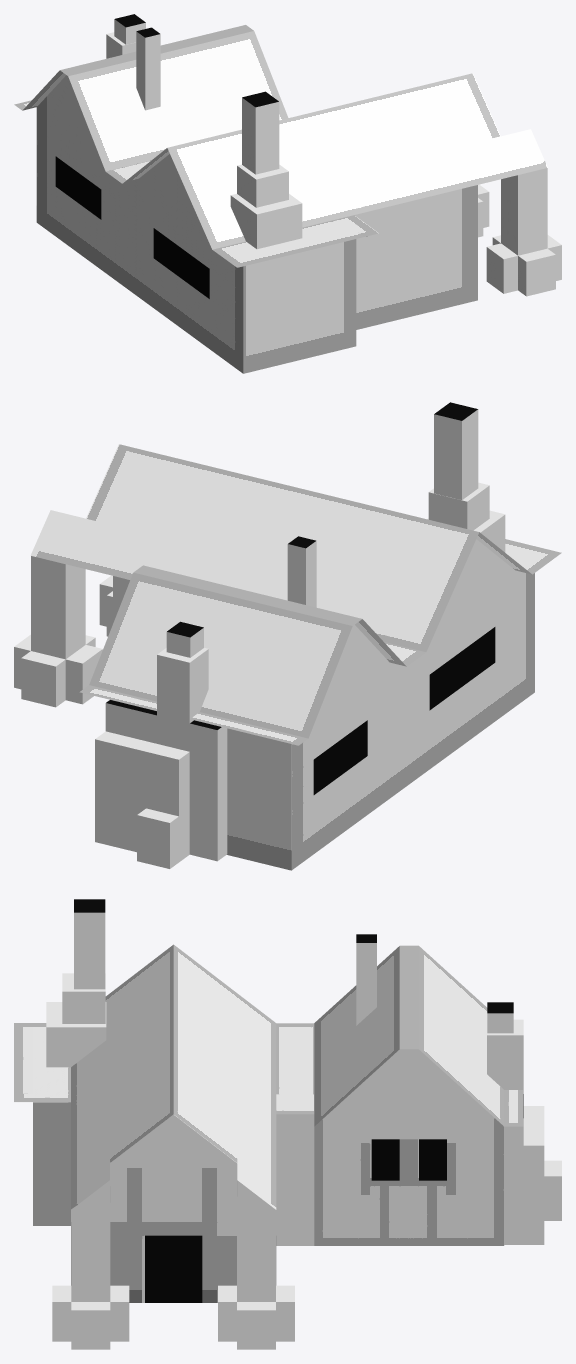
Rendered from Castle.glb.
3 renders of one model, top to bottom at view 1: azimuth 30°, elevation 25°; view 2: azimuth 150°, elevation 25°; view 3: azimuth 270°, elevation 25°, orthographic. The views are drawn at different scales.
Visible parts, largest first — view 1: Castle_small; view 2: Castle_small; view 3: Castle_small.
Part boxes in pixels (left/top/right/bottom): Castle_small: left=14, top=14, right=561, bottom=373; Castle_small: left=14, top=402, right=561, bottom=870; Castle_small: left=14, top=899, right=561, bottom=1349.
Bounding box in the file's own units: 4.85 × 3.26 × 5.77.
Materials: 4 (2 with a texture image).
